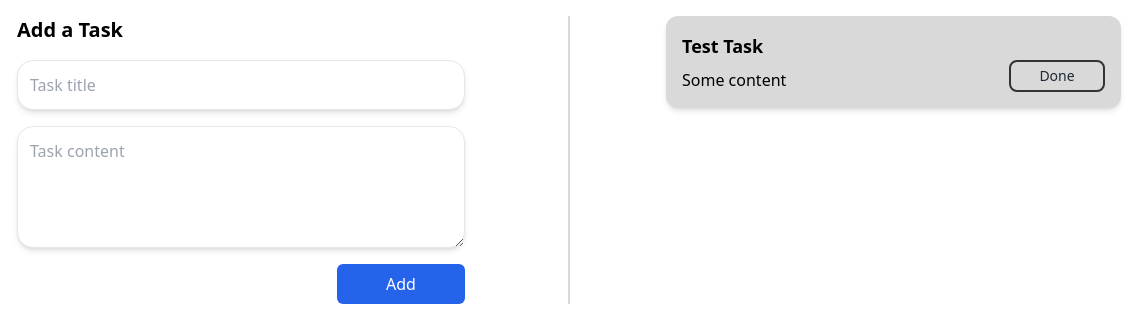
Test case: App integration tests › marks a task as done and removes it from the list
Expected: the heading "Test Task" is shown, [682,34,763,58]
// Click Done
Click the button "Done" at (1057, 76), box [1009,60,1105,92]
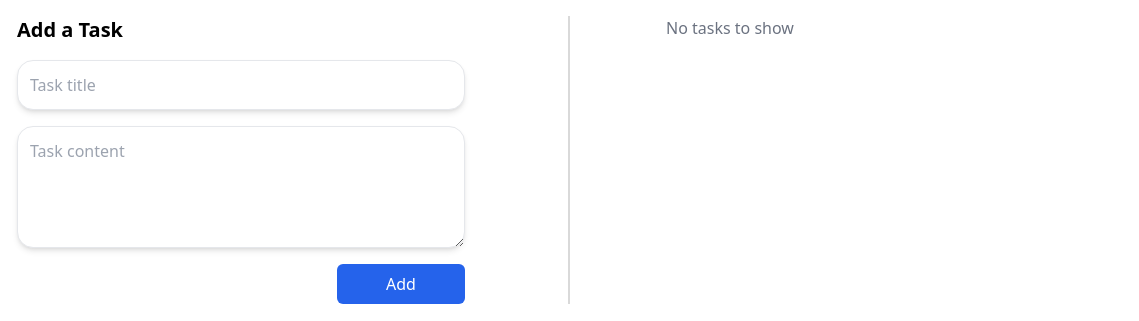
Expected: the heading "Test Task" is gone
